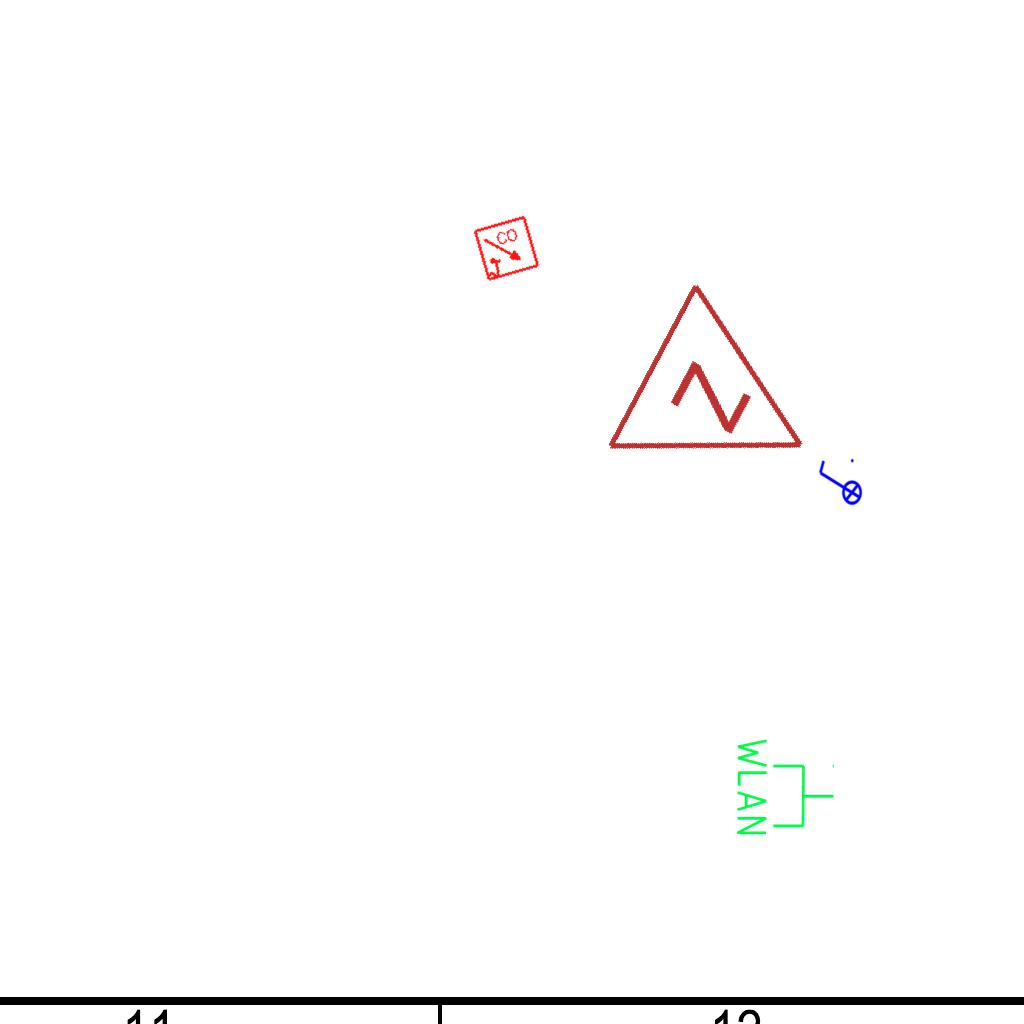Ausschalter_beleuchtet: (815, 456, 863, 512)
ROA_Rauchmelder_optisch_mit_Signalgeber_(Sockelsirene): (472, 214, 542, 284)
WLAN: (733, 734, 837, 839)
Zimmersignalleuchte: (592, 269, 862, 537)
